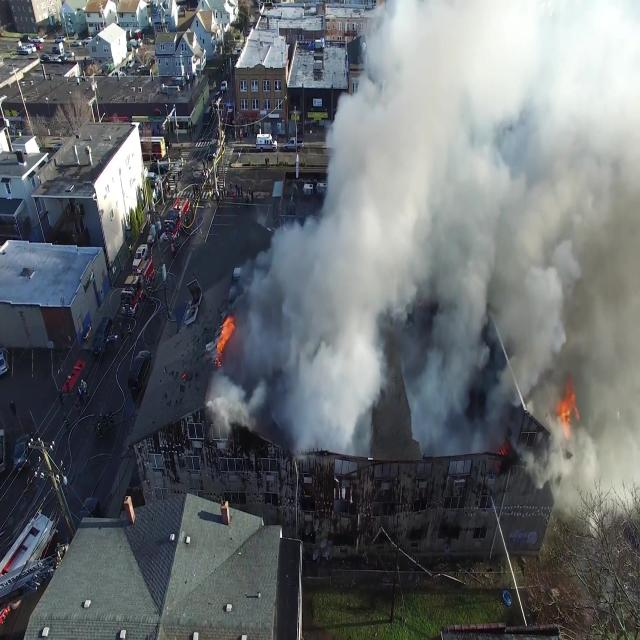Fire: (203, 292, 243, 368), (549, 376, 590, 440)
Smoke: (204, 0, 640, 448)
